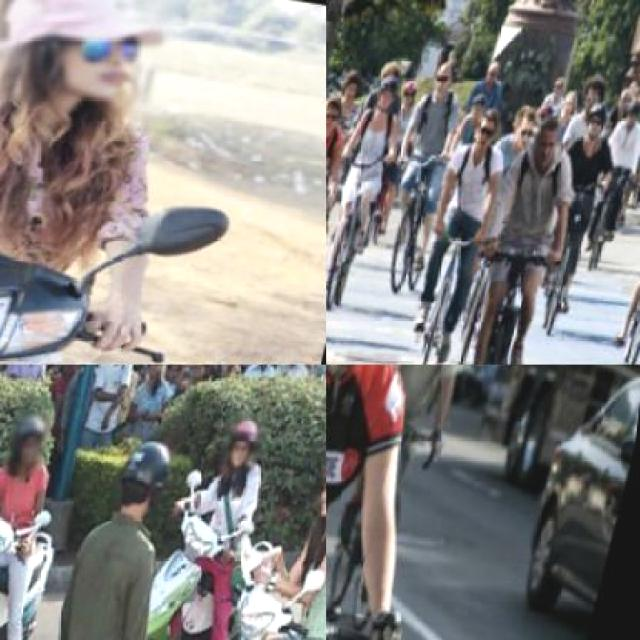With Helmet: (117, 428, 189, 523), (5, 408, 60, 480), (222, 408, 276, 477), (373, 64, 415, 118), (587, 96, 621, 144), (309, 440, 325, 532), (620, 88, 638, 135)
Without Helmet: (0, 0, 192, 124), (528, 106, 582, 174), (472, 98, 512, 156), (326, 85, 359, 143), (428, 51, 464, 100), (546, 65, 577, 103), (485, 52, 513, 90)
